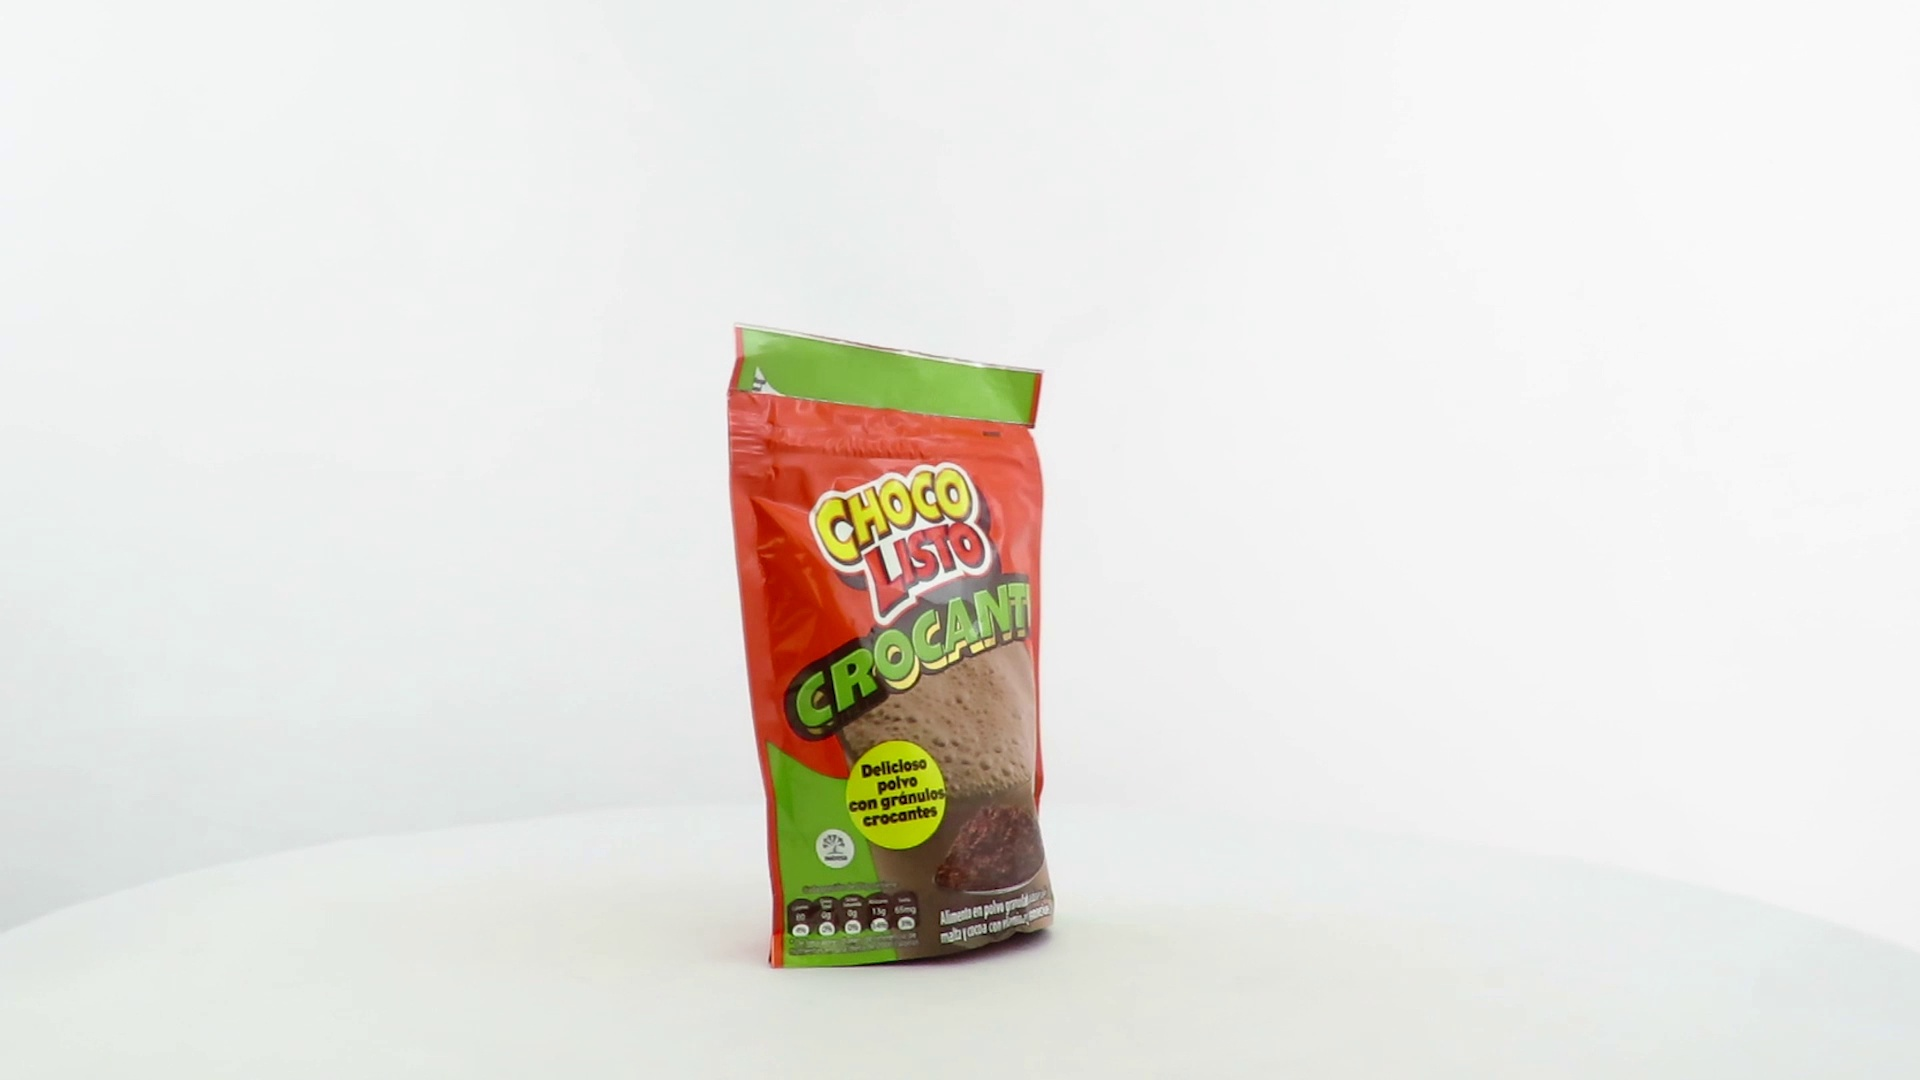COL0170102DYP10000: (721, 316, 1062, 975)
